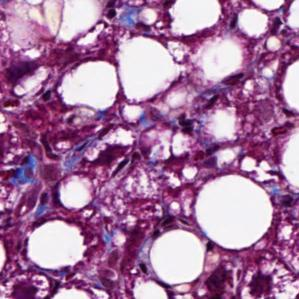inflammation: (198, 248, 299, 299), (65, 116, 137, 176), (0, 268, 57, 299), (174, 109, 200, 140)
